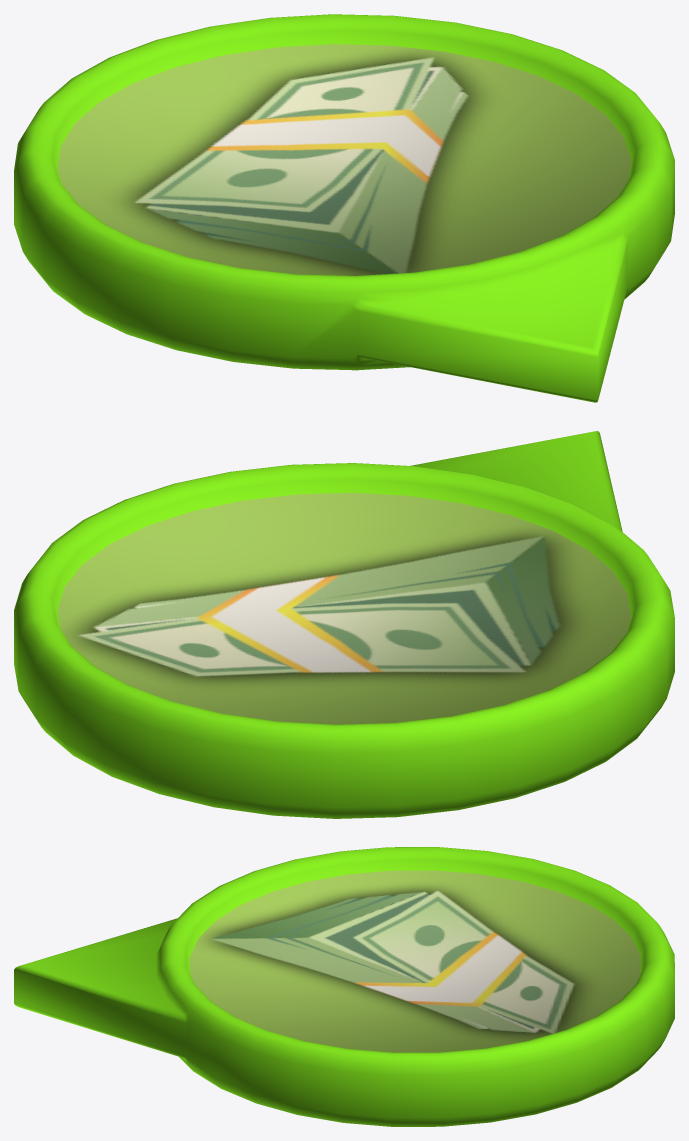
The model's file is DollarPack.fbx.
The picture shows the model from 3 angles, top to bottom: view 1: azimuth 30°, elevation 25°; view 2: azimuth 150°, elevation 25°; view 3: azimuth 270°, elevation 25°; orthographic projection. The views are drawn at different scales.
Parts seen in each view (by area): view 1: DollarPack; view 2: DollarPack; view 3: DollarPack.
Part boxes in pixels (x1=…): DollarPack: x1=14, y1=14, x2=674, y2=402; DollarPack: x1=14, y1=431, x2=674, y2=818; DollarPack: x1=14, y1=847, x2=674, y2=1126.
Bounding box in the file's own units: 315 × 401 × 48.53.
2 materials, 1 textured.
